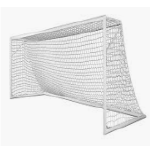goals: (8, 14, 147, 136)
